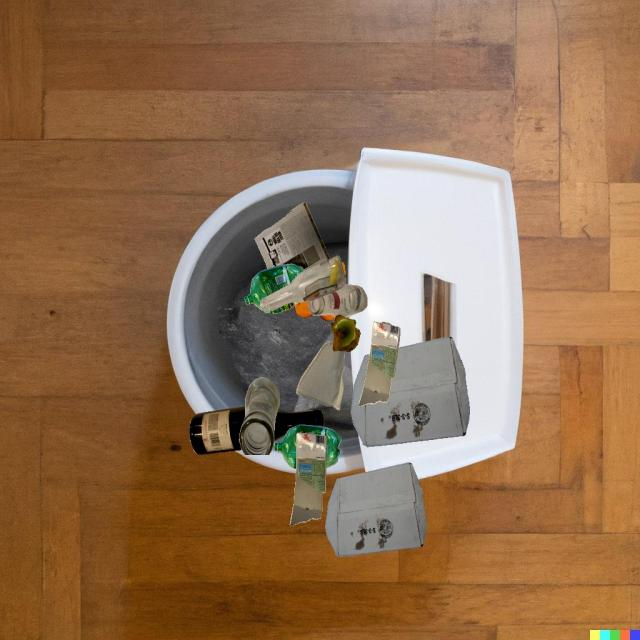biowaste: (312, 276, 345, 317), (331, 314, 361, 352), (295, 301, 312, 318)
cardboard: (351, 337, 470, 447), (325, 463, 427, 557), (359, 321, 400, 407), (290, 432, 327, 527), (296, 341, 345, 410)
glass: (260, 256, 346, 311), (239, 377, 280, 455), (189, 406, 245, 455), (308, 284, 367, 318), (274, 409, 324, 442)
paper: (254, 202, 330, 271)
plastic: (274, 424, 341, 469), (244, 264, 304, 313)
